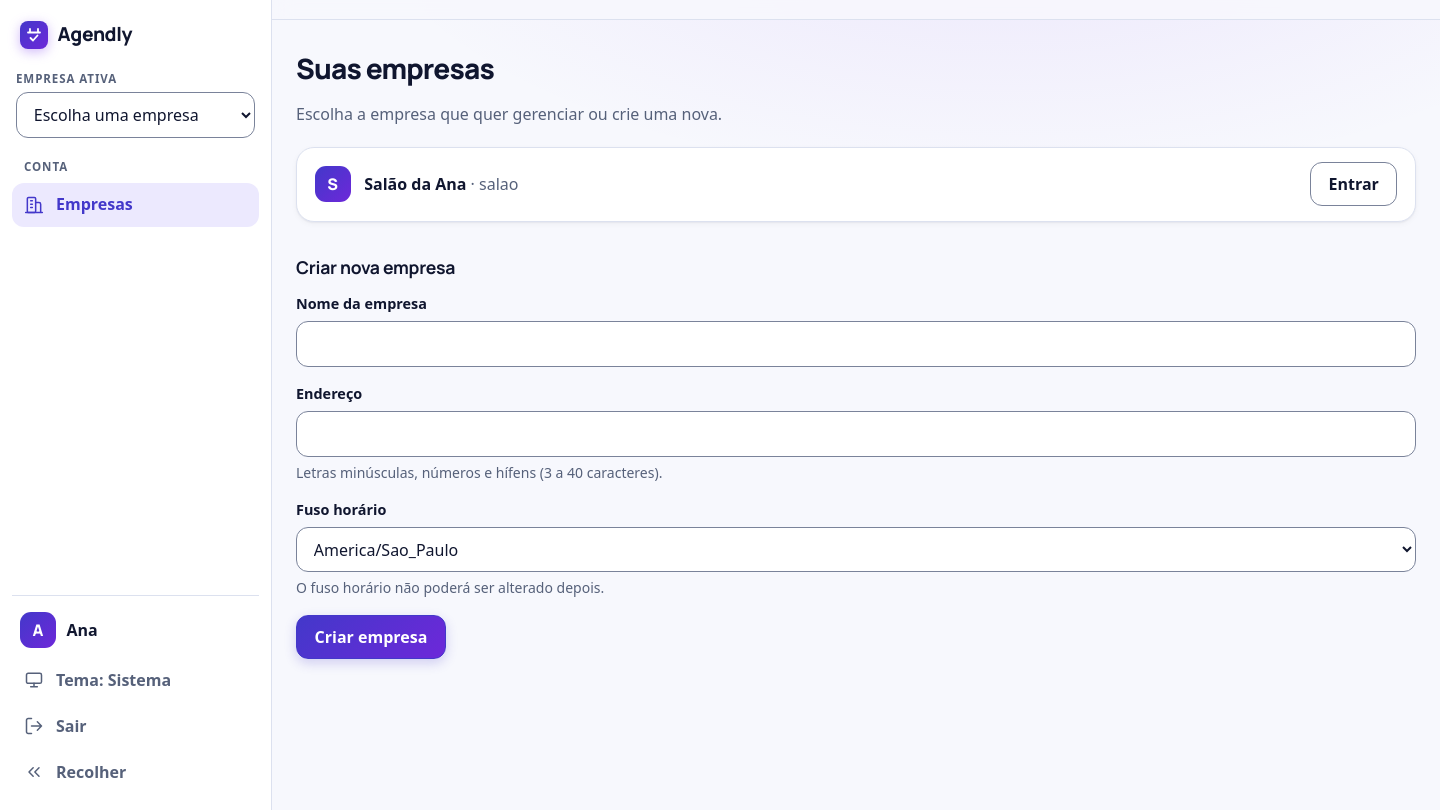
Test case: seletor de empresa › empresa que o servidor não conhece (404): mostra o erro e continua na tela
Check: the list named "Empresas" is shown, box 296,147 -> 1416,222
Click the button with aria-label "Entrar em Salão da Ana" at (1354, 184), box 1310,162 -> 1397,206
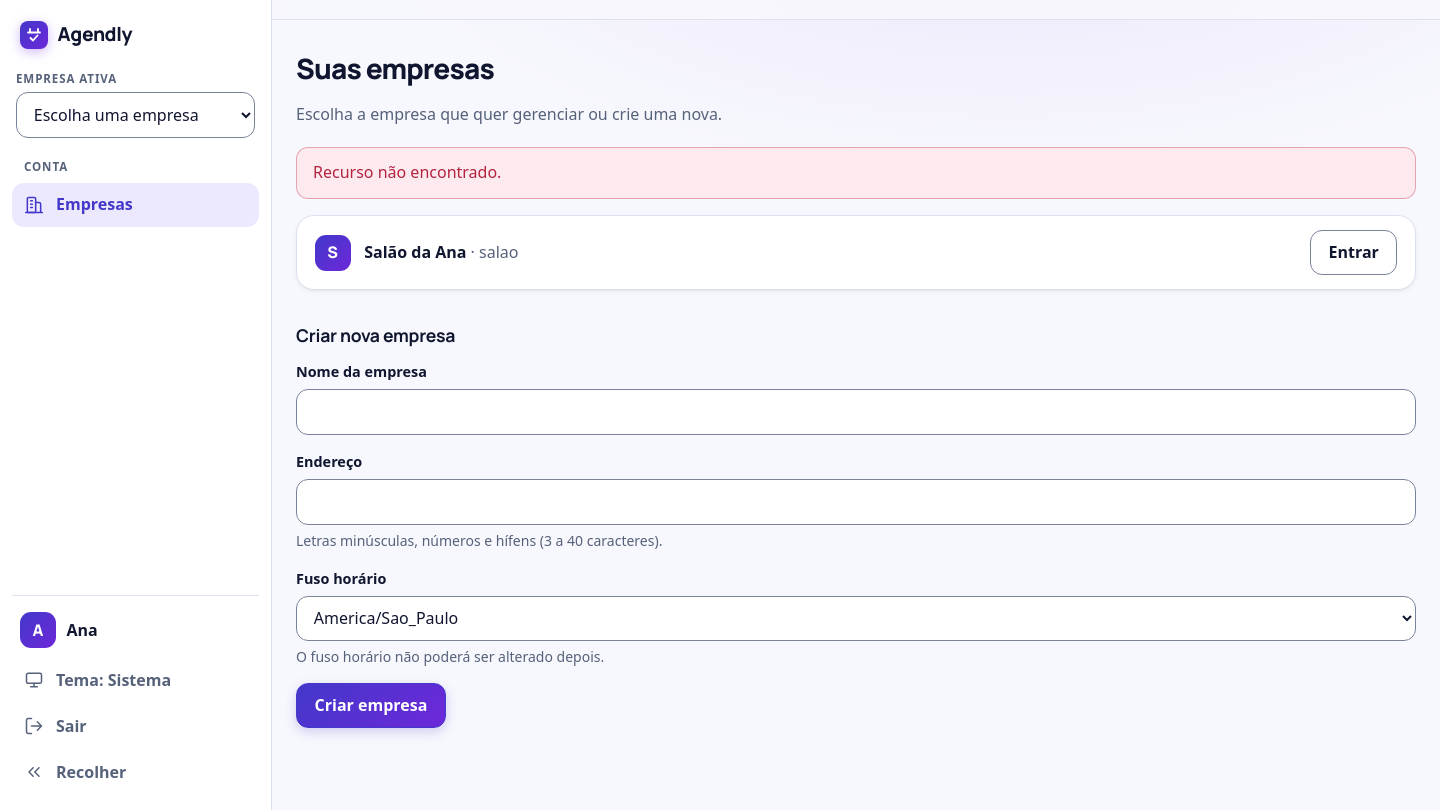
Check: the message reads "Recurso não encontrado.", box 313,161 -> 501,183
